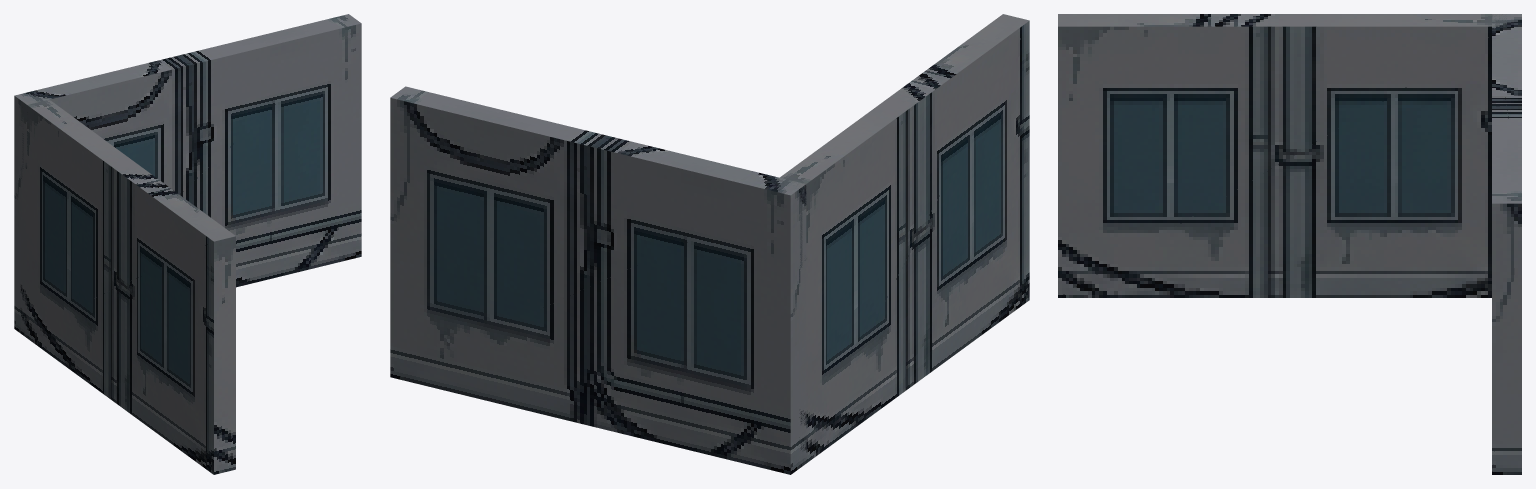
Rendered from module_outer_corner.glb.
3 renders of one model, left to right at view 1: azimuth 30°, elevation 25°; view 2: azimuth 150°, elevation 25°; view 3: azimuth 270°, elevation 25°, orthographic. The views are drawn at different scales.
Visible parts, largest first — view 1: module_outer_corner; view 2: module_outer_corner; view 3: module_outer_corner.
Boxes of the visible parts, <box> form: module_outer_corner: <box>14,14,361,474</box>; module_outer_corner: <box>390,14,1029,474</box>; module_outer_corner: <box>1058,14,1521,474</box>.
Size of the model in its own units: 3 by 2 by 3.1.
Materials: 1 (1 with a texture image).
